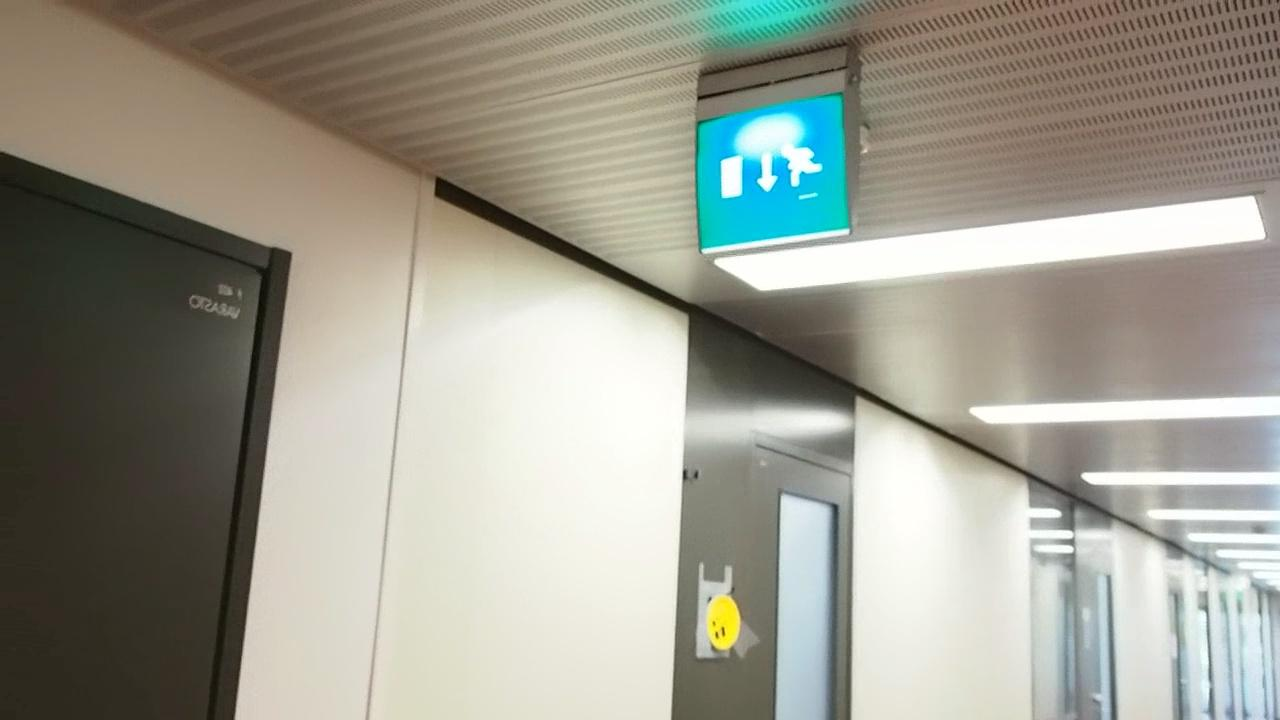exit: (695, 96, 853, 247)
